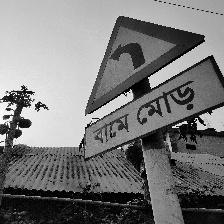Left-Turn: (82, 15, 223, 157)
